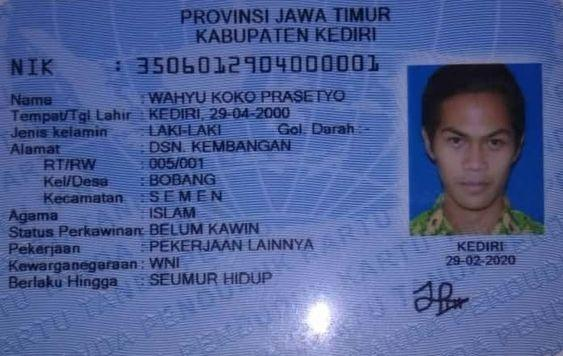ID-card: (1, 3, 559, 354)
